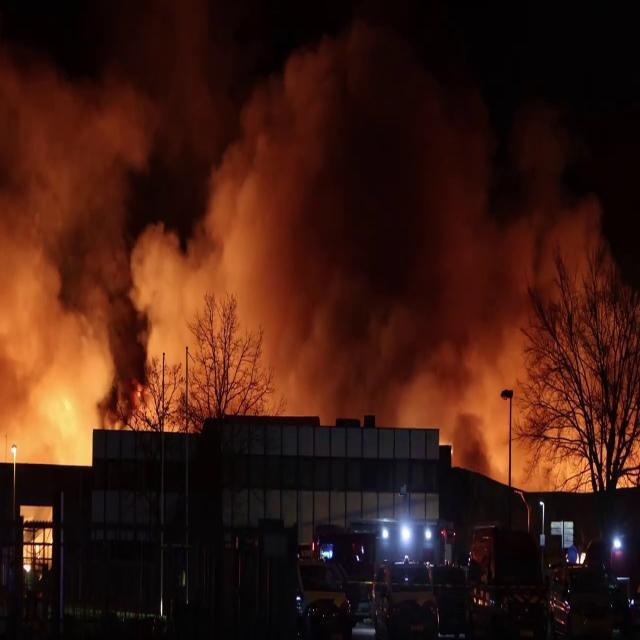Smoke: (6, 6, 606, 426)
